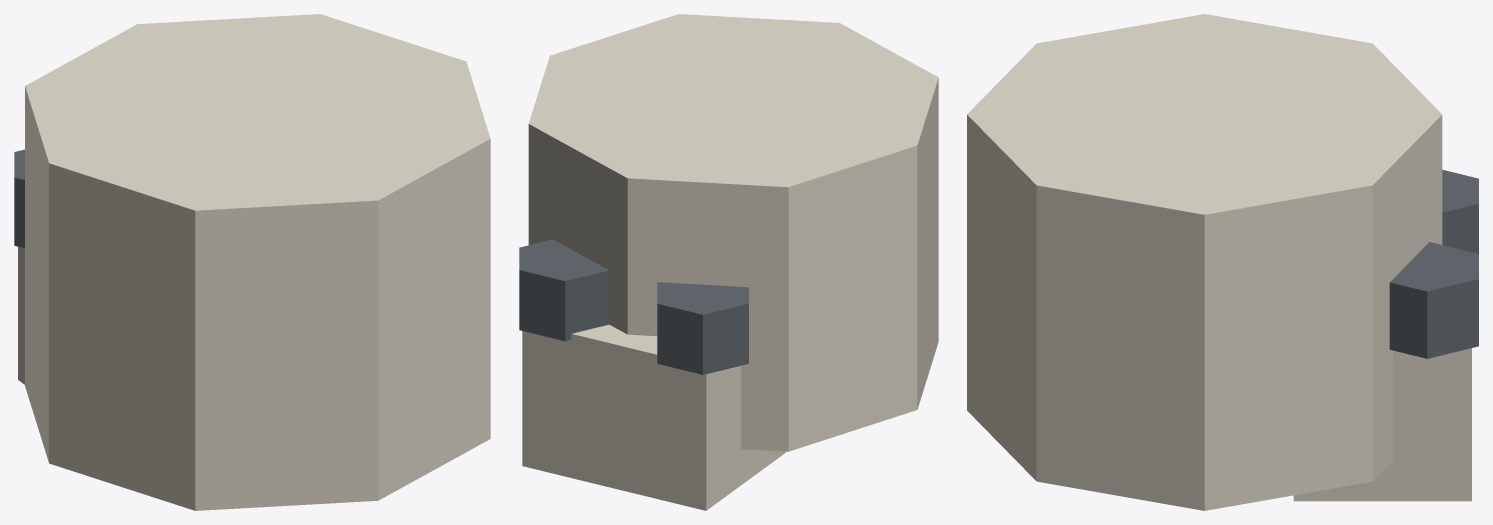
The model's file is haunted_skull.glb.
3 views of the same model, side by side, from view 1: azimuth 30°, elevation 25°; view 2: azimuth 150°, elevation 25°; view 3: azimuth 270°, elevation 25° (orthographic). The views are drawn at different scales.
Parts seen in each view (by area): view 1: Haunted_Skull; view 2: Haunted_Skull; view 3: Haunted_Skull.
Boxes of the visible parts, x1,y1,x2,y2 form: Haunted_Skull: (14, 14, 490, 510); Haunted_Skull: (519, 14, 938, 510); Haunted_Skull: (967, 14, 1478, 510).
Bounding box in the file's own units: 0.32 × 0.25 × 0.3446.
